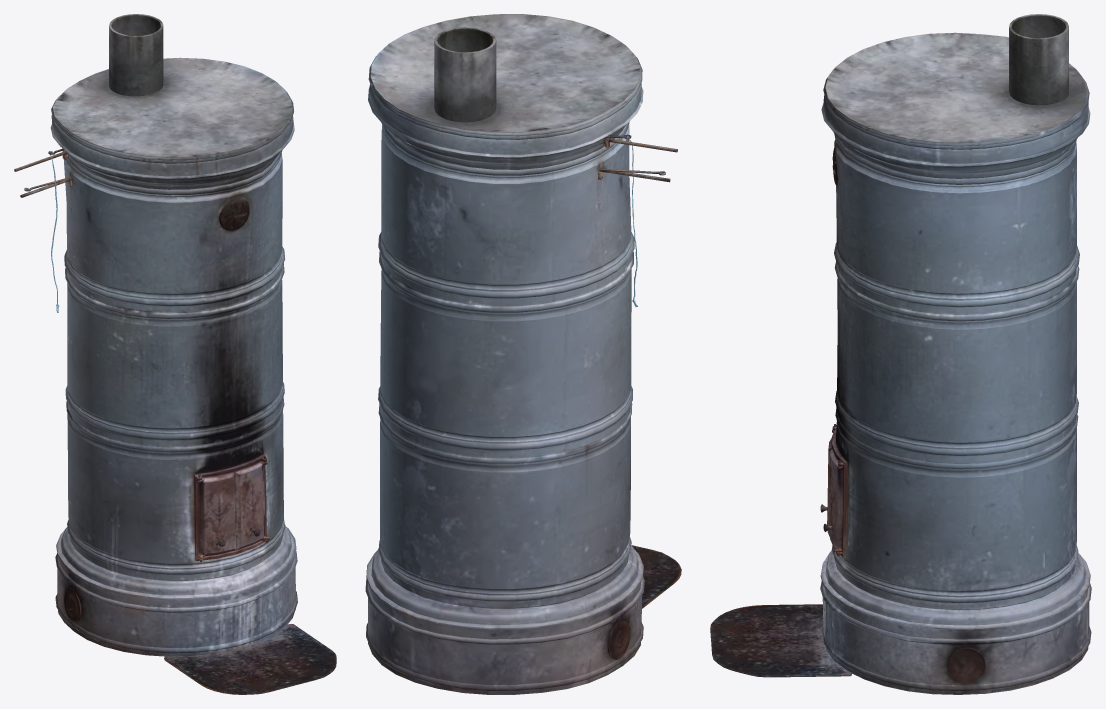
The model's file is scandinavian_masonry_heater.glb.
3 views of the same model, side by side, from view 1: azimuth 30°, elevation 25°; view 2: azimuth 150°, elevation 25°; view 3: azimuth 270°, elevation 25° (orthographic). The views are drawn at different scales.
Parts seen in each view (by area): view 1: scandinavian_masonry_heater; view 2: scandinavian_masonry_heater; view 3: scandinavian_masonry_heater.
Part boxes in pixels (left/top/right/bottom): scandinavian_masonry_heater: left=14, top=14, right=336, bottom=694; scandinavian_masonry_heater: left=365, top=14, right=681, bottom=694; scandinavian_masonry_heater: left=710, top=14, right=1091, bottom=694.
Size of the model in its own units: 1.17 by 2.36 by 1.34.
Materials: 1 (1 with a texture image).
